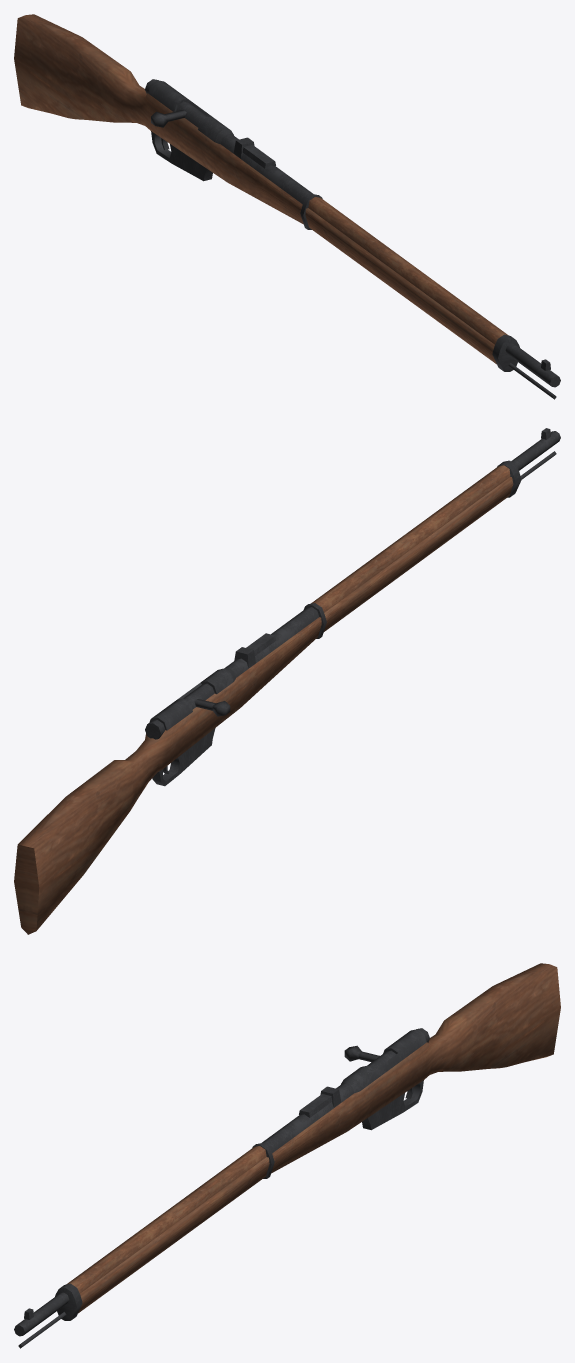
The model's file is 1212莫辛纳甘1891.FBX.
The picture shows the model from 3 angles, top to bottom: view 1: azimuth 30°, elevation 25°; view 2: azimuth 150°, elevation 25°; view 3: azimuth 330°, elevation 25°; orthographic projection.
Visible parts, largest first — view 1: 1212_MosinNagant_m1891; view 2: 1212_MosinNagant_m1891; view 3: 1212_MosinNagant_m1891.
Boxes of the visible parts, left/top/right/bottom form: 1212_MosinNagant_m1891: left=14, top=14, right=560, bottom=399; 1212_MosinNagant_m1891: left=14, top=428, right=560, bottom=934; 1212_MosinNagant_m1891: left=14, top=963, right=560, bottom=1348.
Size of the model in its own units: 6.25 by 15.02 by 115.
Materials: 1 (1 with a texture image).
